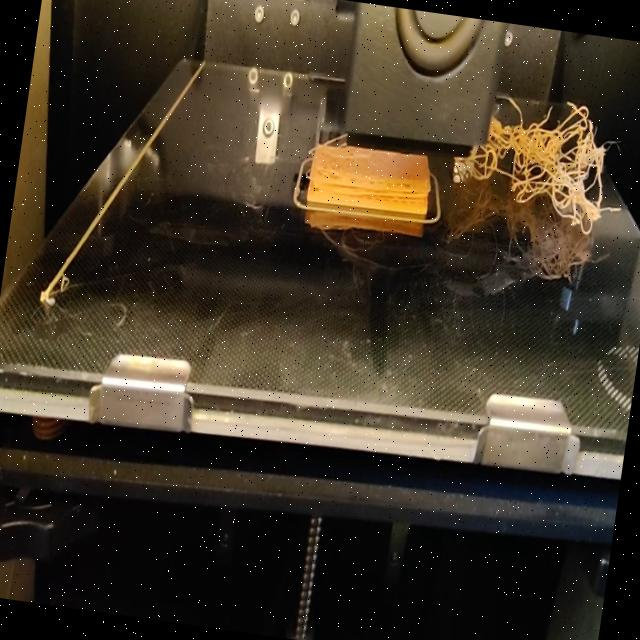spaghetti: (474, 80, 640, 244), (454, 144, 492, 182)
